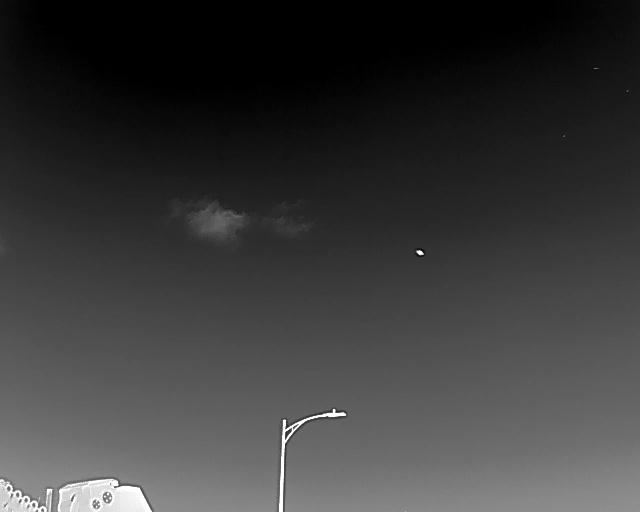fpv-drone: (415, 248, 424, 256)
